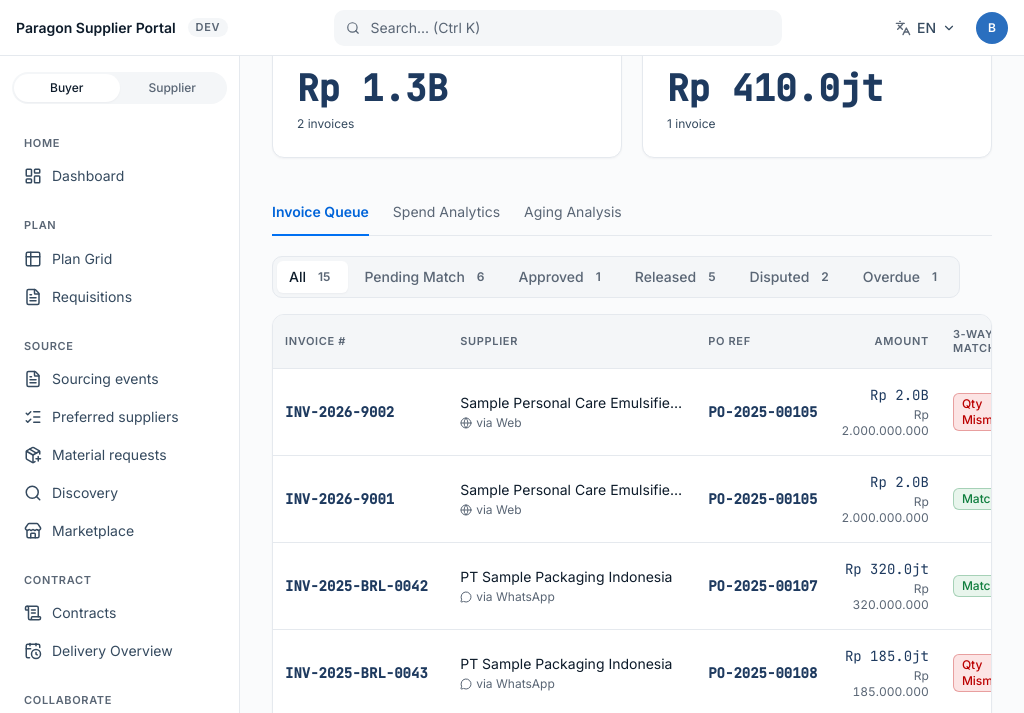
Scenario: OPS-1 · finance reads what the verdict rests on › the second invoice for the same goods is held, with the reason and the four figures
This screenshot has width=1024, height=713.
(page scrolled)
Click the text "INV-2026-9002" at (340, 412), box [285, 403, 394, 421]
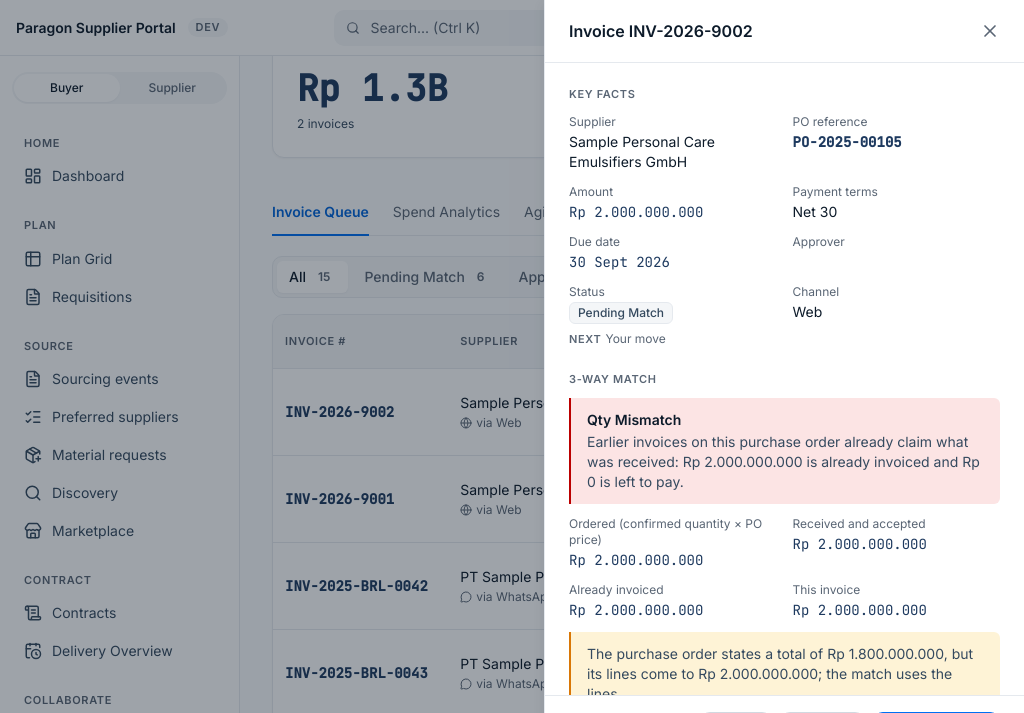
Now the text with test id "invoice-match-desc" shows "Earlier invoices on this purchase order already claim what was received: Rp 2.000.000.000 is already invoiced and Rp 0 is left to pay.", box [587, 433, 980, 490]
Now the element with test id "invoice-po-total-disagrees" shows "The purchase order states a total of Rp 1.800.000.000, but its lines come to Rp 2.000.000.000; the match uses the lines.", box [587, 645, 973, 695]
